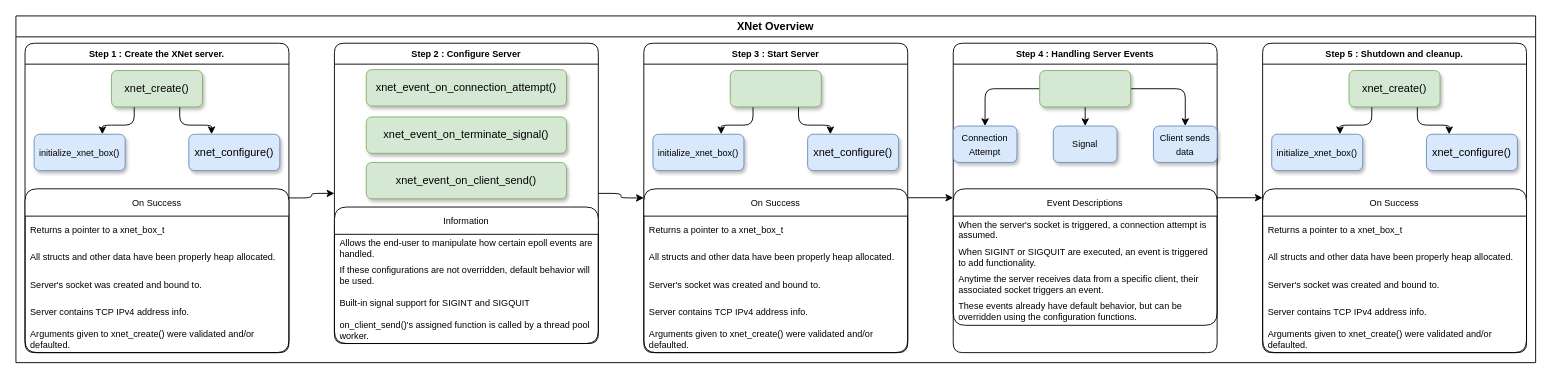
This 1552x379 diagram has some shape labels left out. The shapes that lost their labels are listed below. From the top down, each one's centre as x and y in pixels, then its label:
(x=776, y=89): xnet_start()
(x=1085, y=89): Events
